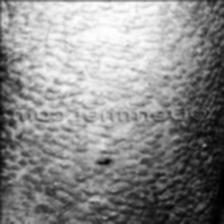Unclassified: (0, 0, 224, 110), (0, 123, 220, 224)
